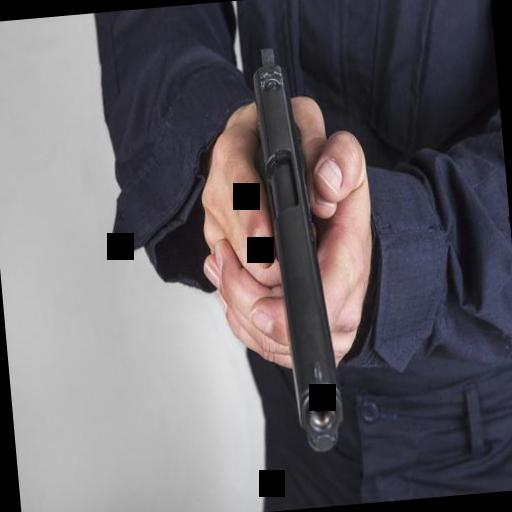Handgun: (242, 33, 352, 471)
